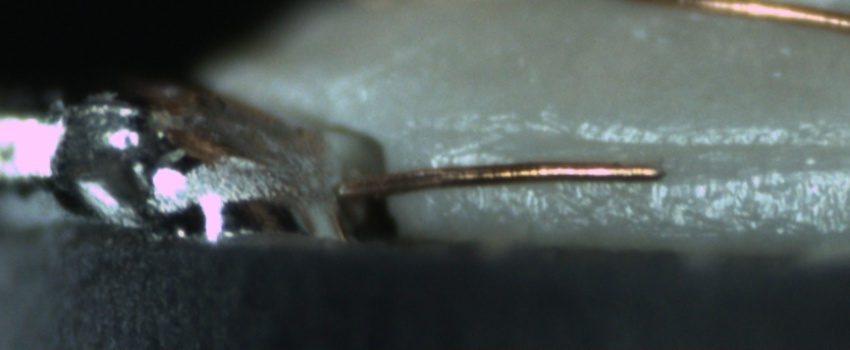DL: (388, 124, 850, 178)
